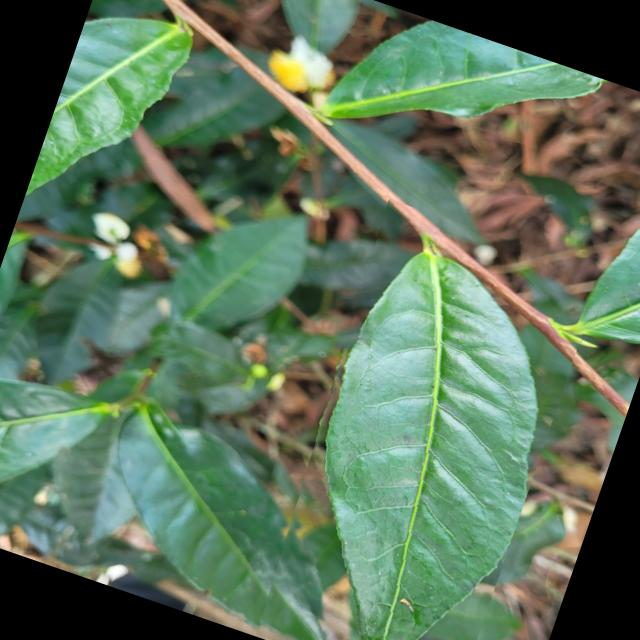Category D(7+ days, Not for Tea): (239, 198, 602, 640)
